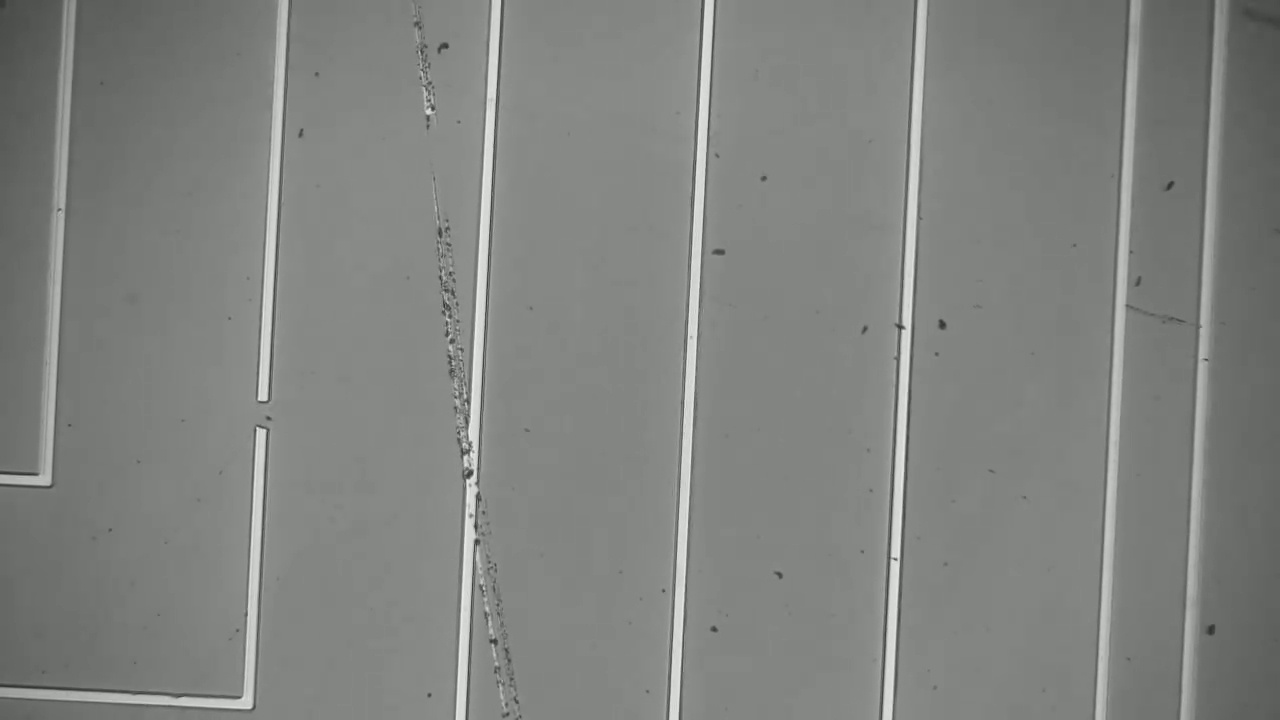open: (240, 374, 285, 446)
scratch: (405, 6, 526, 720), (1124, 282, 1200, 340)
